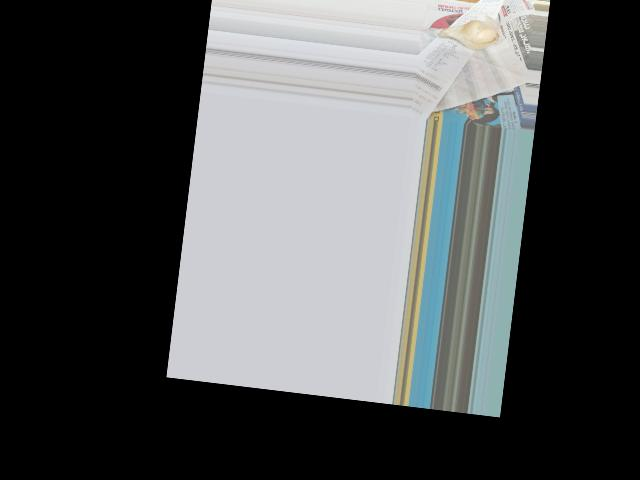onion: (444, 18, 500, 50)
